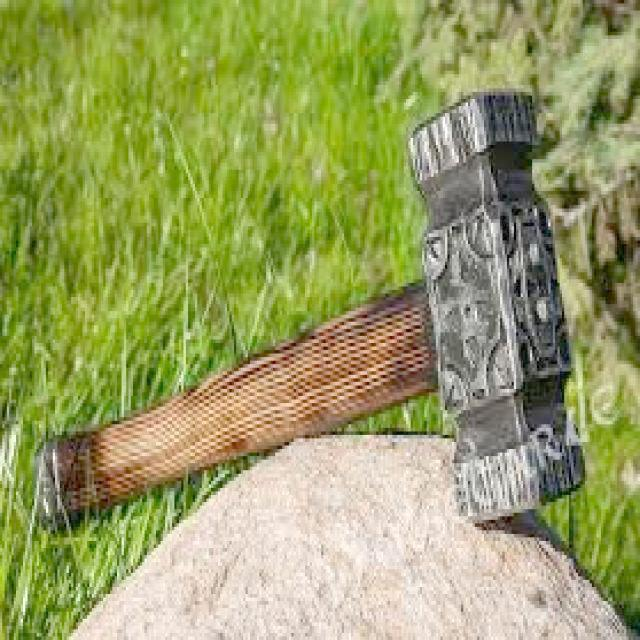hammer: (31, 83, 588, 546)
